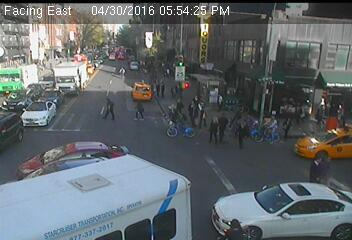neg: (101, 172, 132, 214), (248, 190, 278, 230), (151, 178, 180, 216), (283, 166, 308, 200), (59, 161, 82, 193), (23, 75, 44, 103), (334, 217, 344, 231)
pos: (228, 118, 252, 149), (278, 115, 299, 142), (97, 94, 117, 121), (130, 97, 148, 121)
